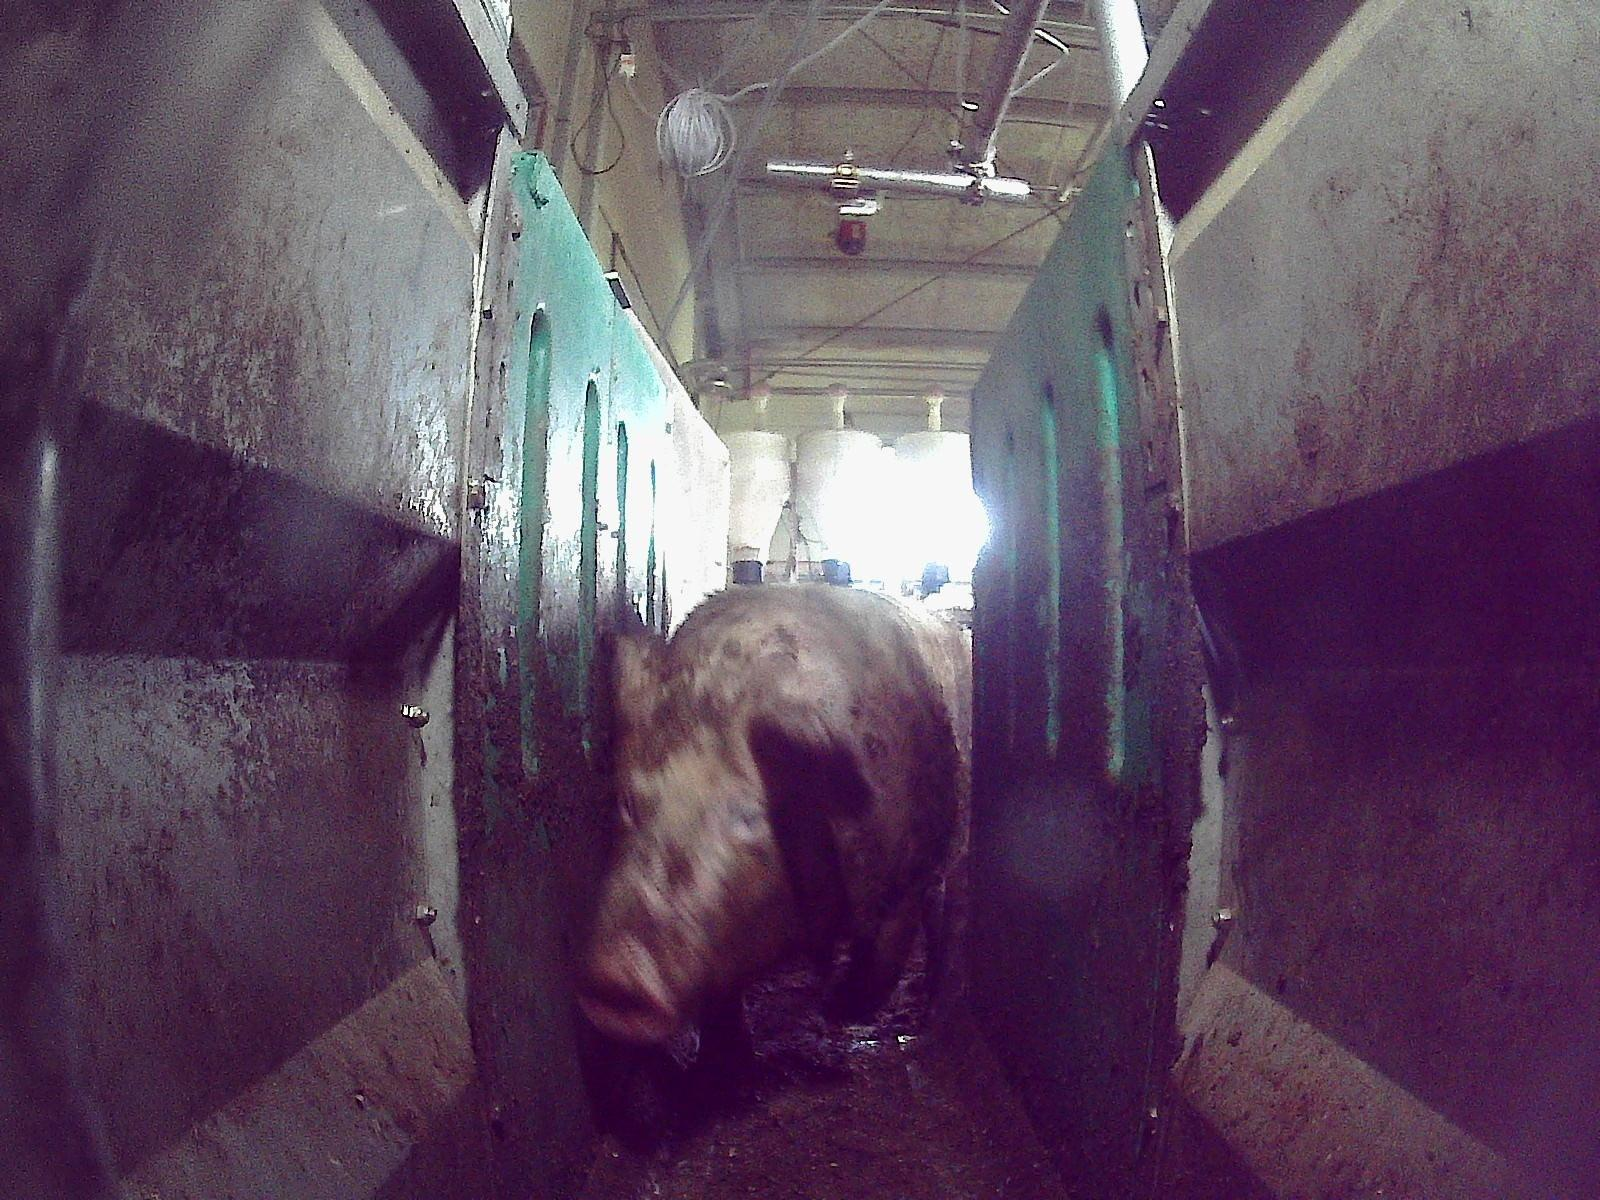Face: (574, 667, 812, 1040)
